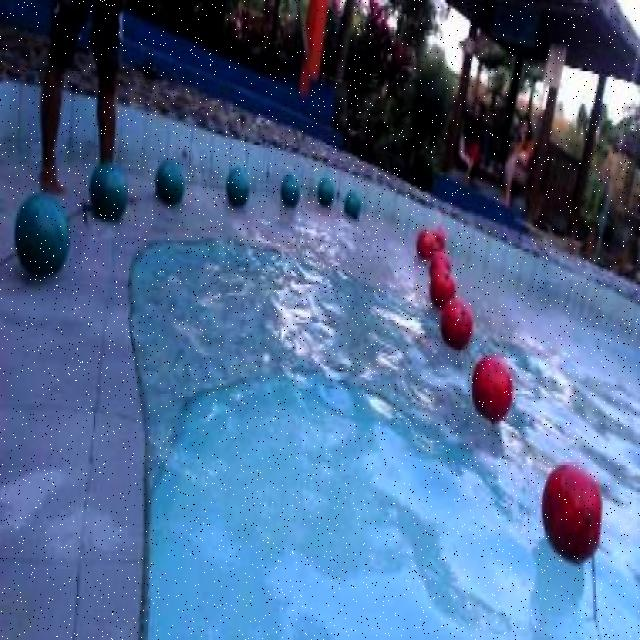buoy: (541, 464, 601, 564), (13, 193, 69, 278), (470, 354, 511, 423), (88, 158, 128, 219), (439, 297, 471, 349), (155, 158, 183, 203), (428, 267, 455, 308), (226, 167, 248, 206), (280, 171, 300, 206), (430, 250, 450, 280), (415, 230, 434, 256), (319, 174, 334, 204), (344, 192, 361, 218)
